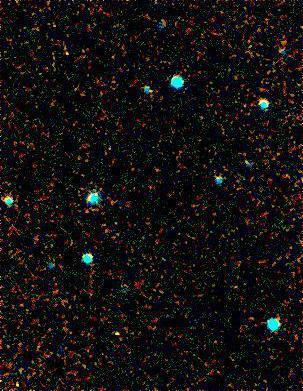star: (45, 41, 75, 71)
